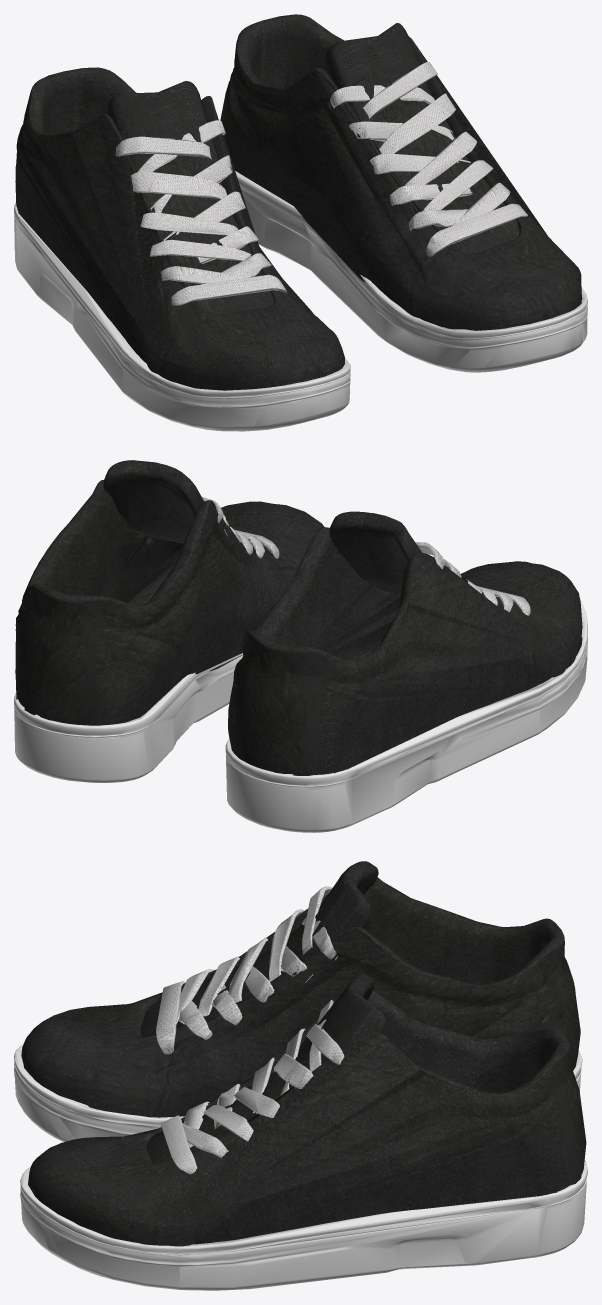
Rendered from shoes.FBX.
3 renders of one model, top to bottom at view 1: azimuth 30°, elevation 25°; view 2: azimuth 150°, elevation 25°; view 3: azimuth 270°, elevation 25°, orthographic. The views are drawn at different scales.
Visible parts, largest first — view 1: Object002, Object005, Object006, Object001, Object003, Object004; view 2: Object005, Object002, Object006, Object001, Object004, Object003; view 3: Object002, Object005, Object001, Object004, Object003, Object006.
Part boxes in pixels (x1=…): Object002: x1=220, y1=14, x2=582, y2=330; Object005: x1=15, y1=67, x2=344, y2=390; Object006: x1=14, y1=203, x2=350, y2=431; Object001: x1=235, y1=171, x2=587, y2=372; Object003: x1=330, y1=62, x2=527, y2=256; Object004: x1=115, y1=120, x2=286, y2=305; Object005: x1=228, y1=511, x2=582, y2=775; Object002: x1=15, y1=460, x2=324, y2=725; Object006: x1=225, y1=599, x2=587, y2=832; Object001: x1=14, y1=653, x2=243, y2=782; Object004: x1=415, y1=542, x2=530, y2=615; Object003: x1=202, y1=497, x2=279, y2=558; Object002: x1=28, y1=973, x2=586, y2=1246; Object005: x1=21, y1=861, x2=580, y2=1117; Object001: x1=20, y1=1160, x2=587, y2=1290; Object004: x1=156, y1=886, x2=337, y2=1054; Object003: x1=160, y1=1000, x2=344, y2=1174; Object006: x1=14, y1=1045, x2=582, y2=1141.
Bounding box in the file's own units: 25.04 × 13.69 × 28.01.
